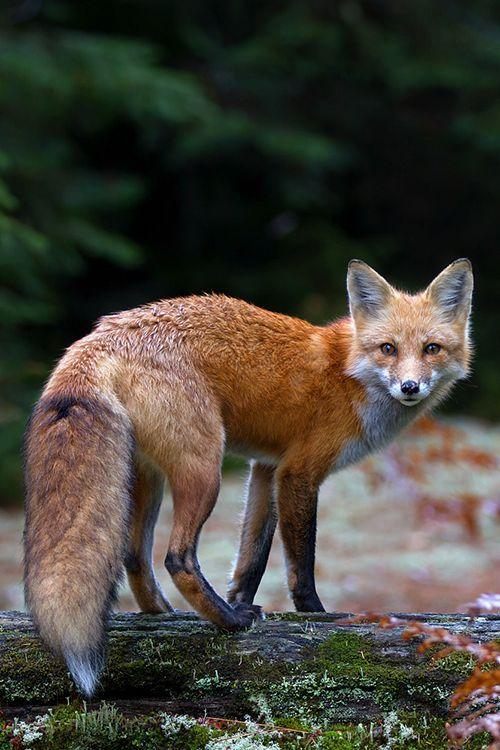fox: (1, 254, 485, 668)
